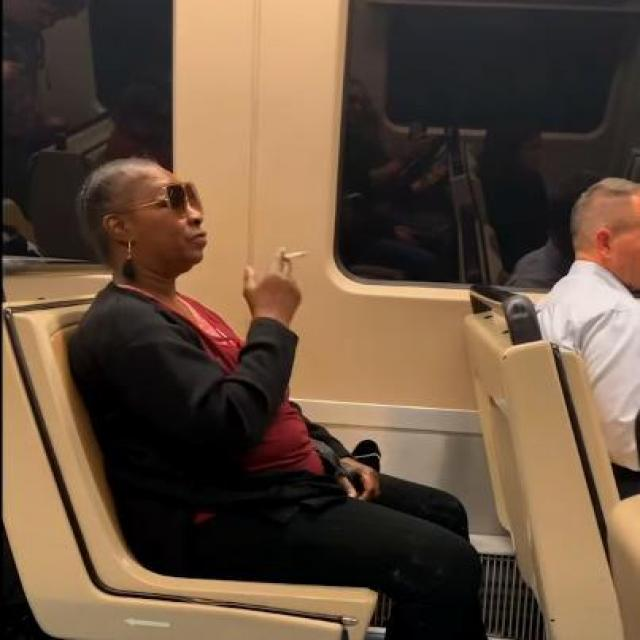cigarette: (240, 234, 319, 304)
